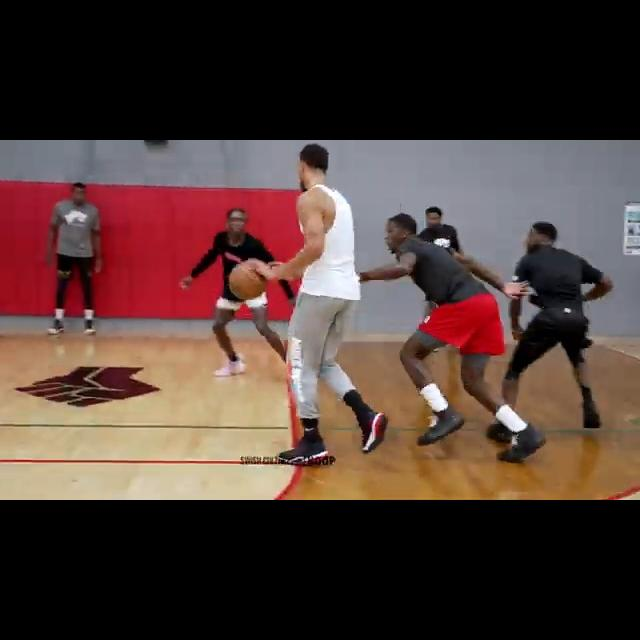hoop: (228, 261, 269, 299)
